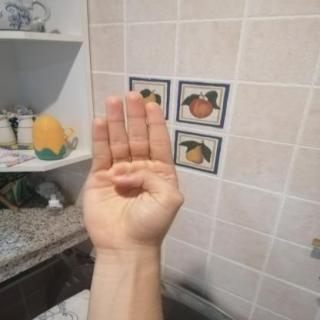KAAF: (68, 82, 196, 260)
